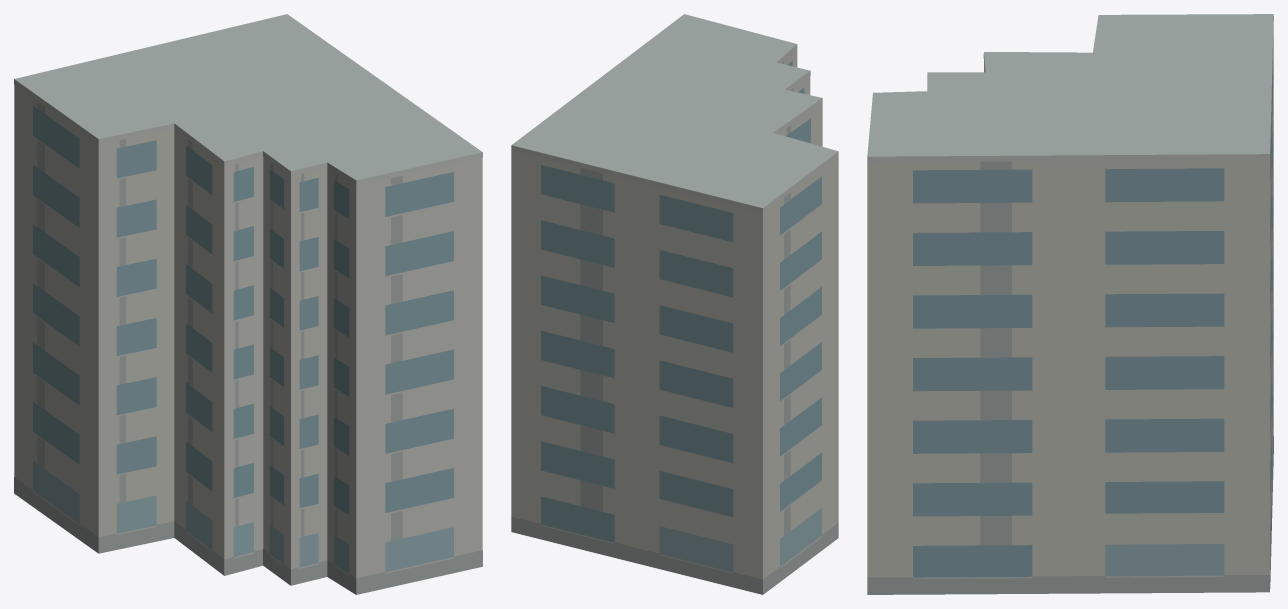
Rendered from survey-upis-32800510.glb.
3 views of the same model, side by side, from view 1: azimuth 30°, elevation 25°; view 2: azimuth 150°, elevation 25°; view 3: azimuth 270°, elevation 25° (orthographic). The views are drawn at different scales.
Visible parts, largest first — view 1: survey-upis-32800510.tmp; view 2: survey-upis-32800510.tmp; view 3: survey-upis-32800510.tmp.
Boxes of the visible parts, bbox=[...] form: survey-upis-32800510.tmp: bbox=[14, 14, 482, 594]; survey-upis-32800510.tmp: bbox=[511, 14, 838, 594]; survey-upis-32800510.tmp: bbox=[867, 14, 1273, 594].
Bounding box in the file's own units: 12.68 × 18.15 × 15.27.
